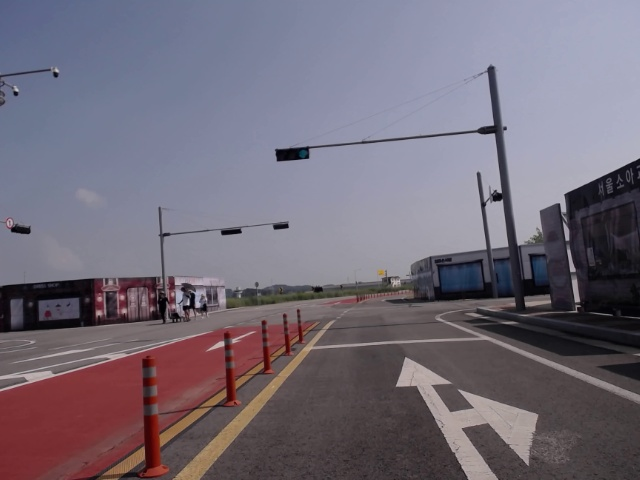green_3: (275, 146, 310, 162)
